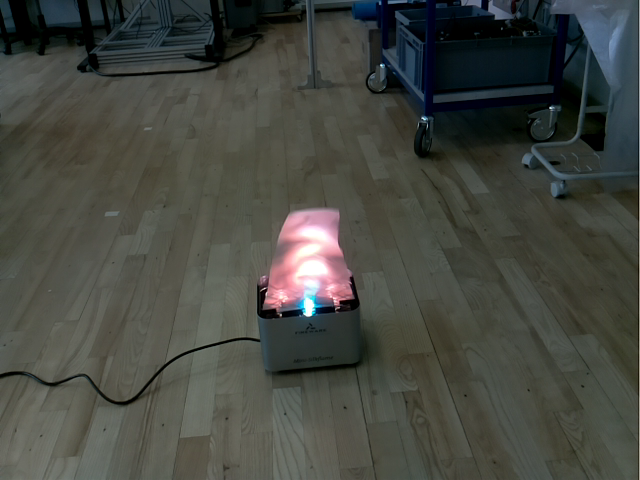fire: (261, 208, 355, 310)
